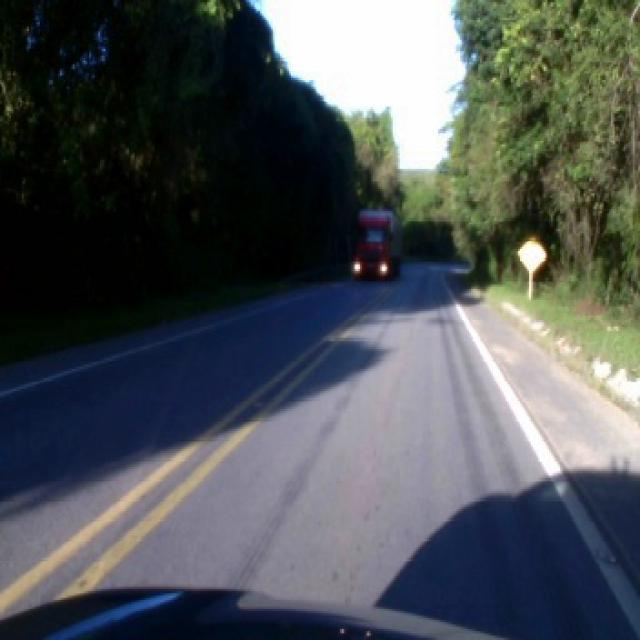Poth-hole: (249, 400, 262, 407)
